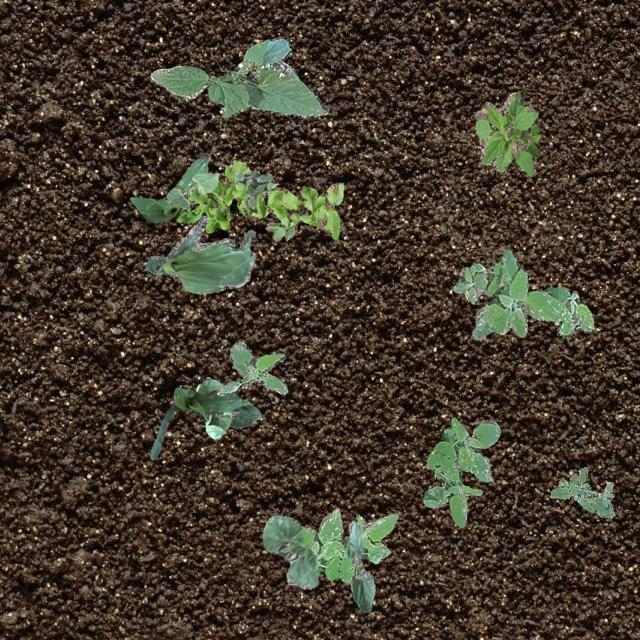crop: (150, 38, 328, 116), (143, 215, 254, 292), (150, 386, 258, 458), (128, 154, 208, 222), (262, 514, 318, 588), (194, 377, 260, 438), (346, 520, 374, 612), (164, 172, 218, 208)
weed: (176, 160, 342, 238), (452, 248, 594, 339), (422, 416, 498, 526), (300, 508, 398, 582), (474, 90, 540, 176), (216, 340, 286, 394), (550, 466, 614, 516), (235, 168, 278, 208), (265, 218, 301, 240)
